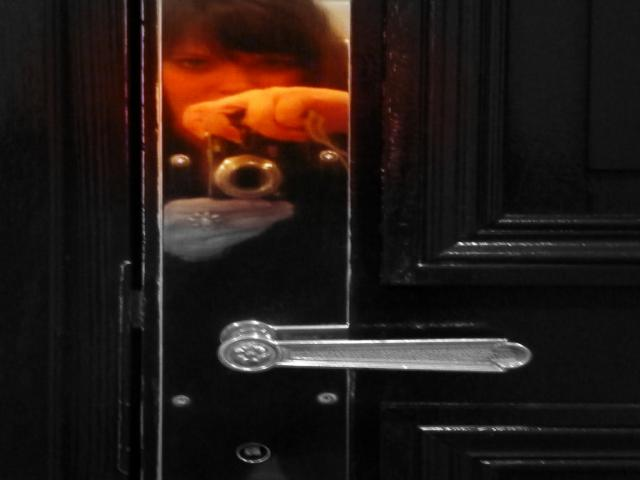Door-handle: (214, 335, 532, 374)
